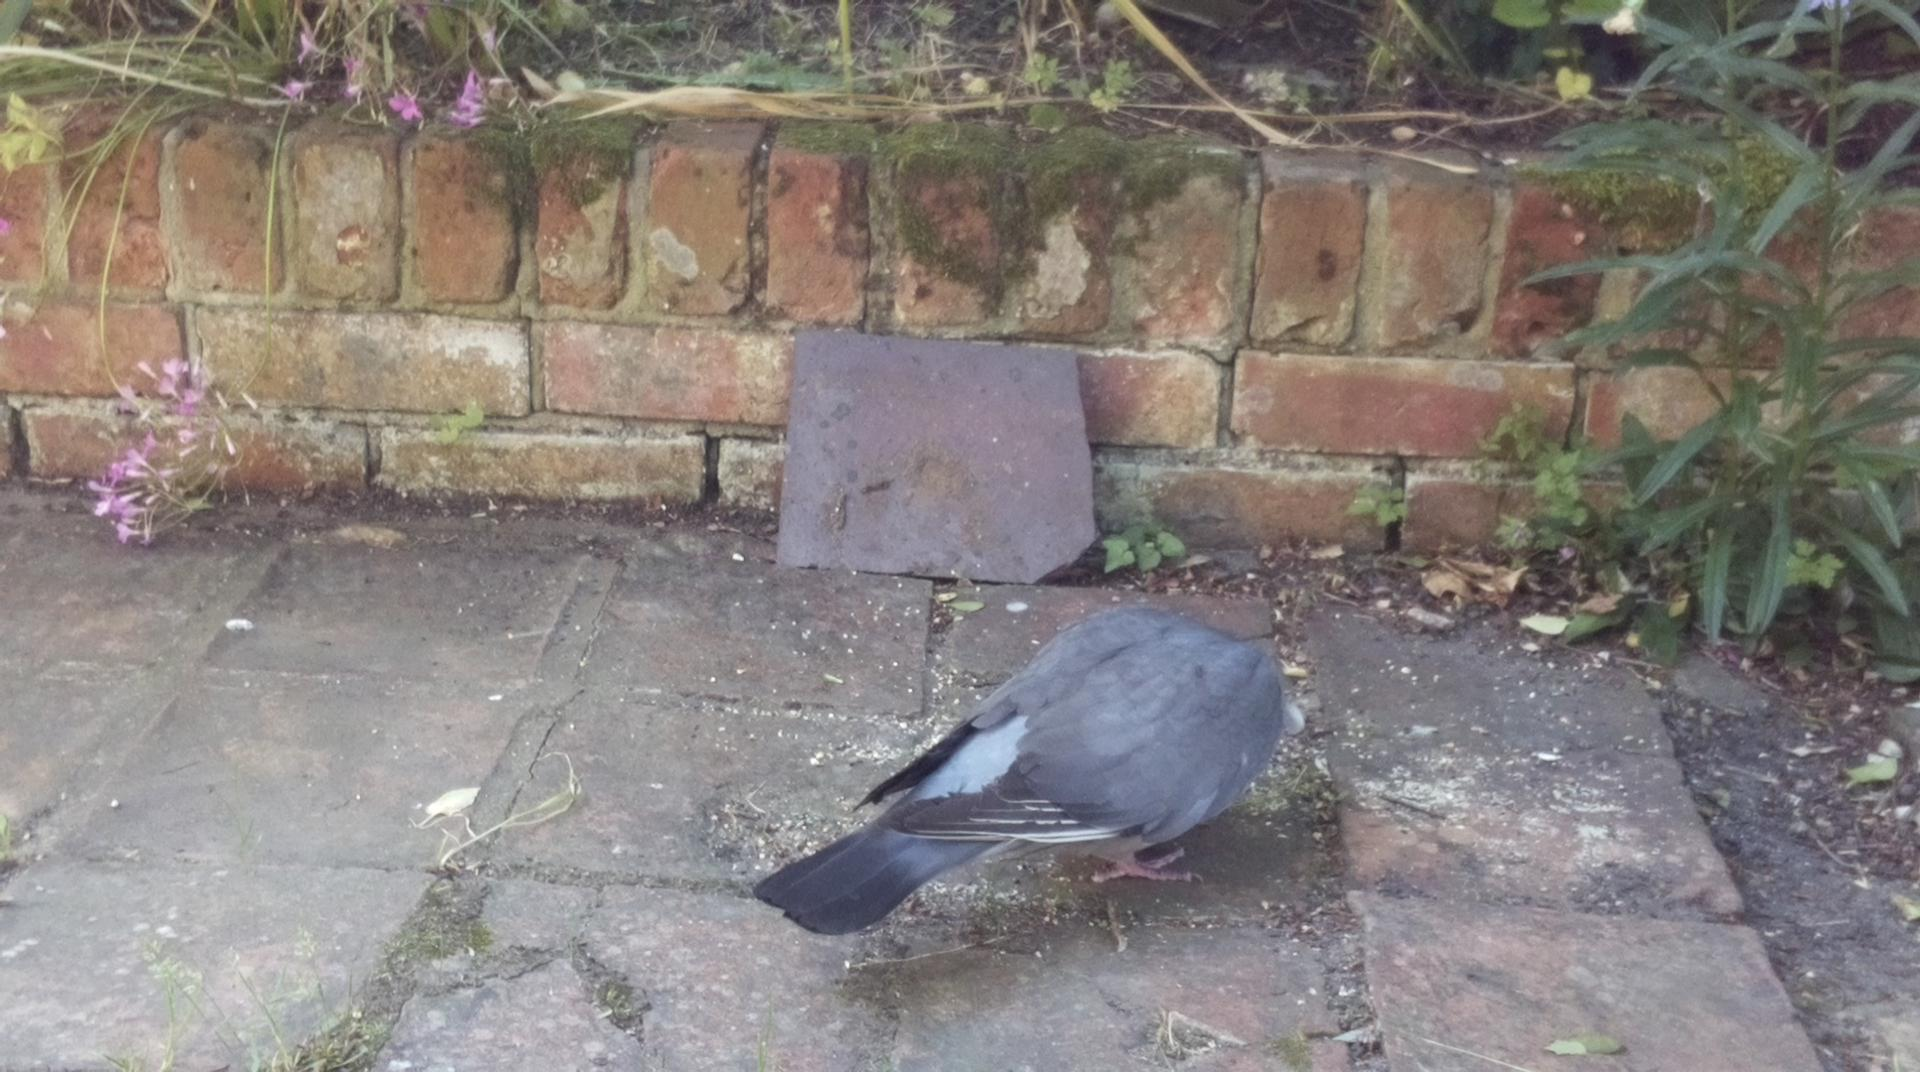wood pigeon: (752, 608, 1284, 938)
